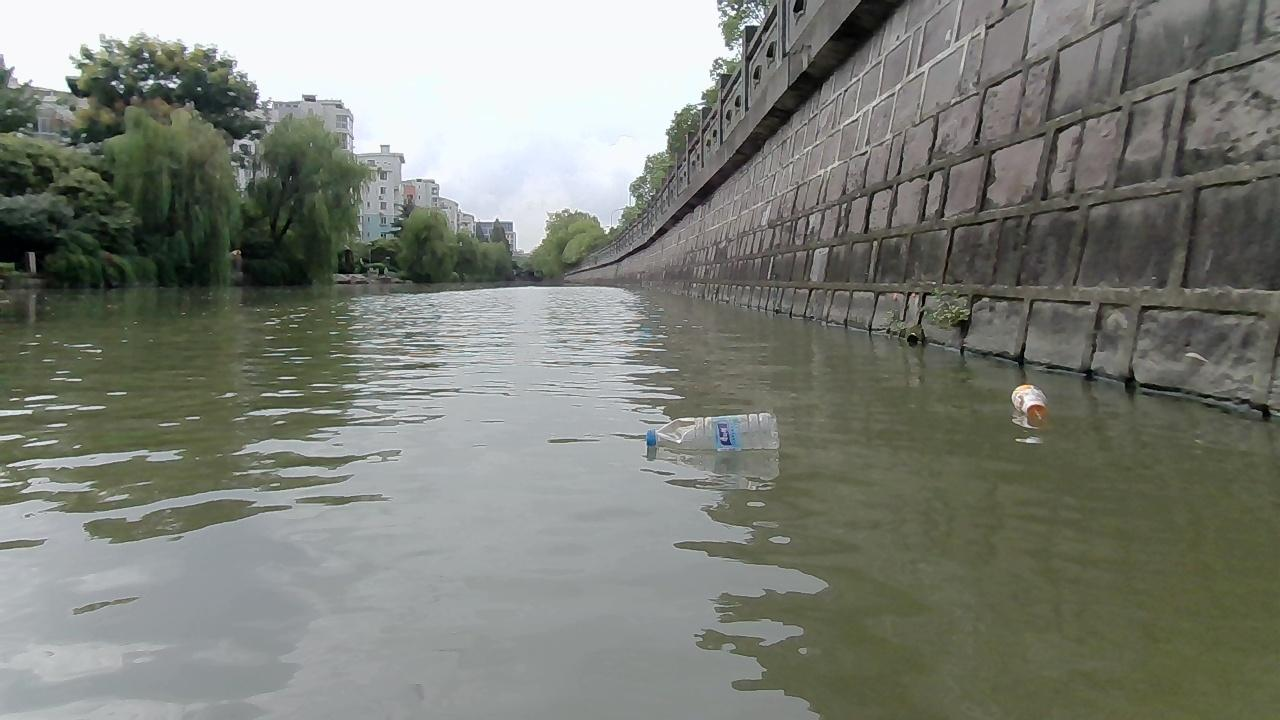bottle: (644, 411, 778, 449), (1010, 383, 1048, 415)
